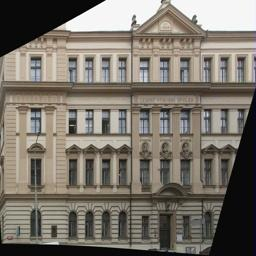building: (62, 12, 205, 256)
